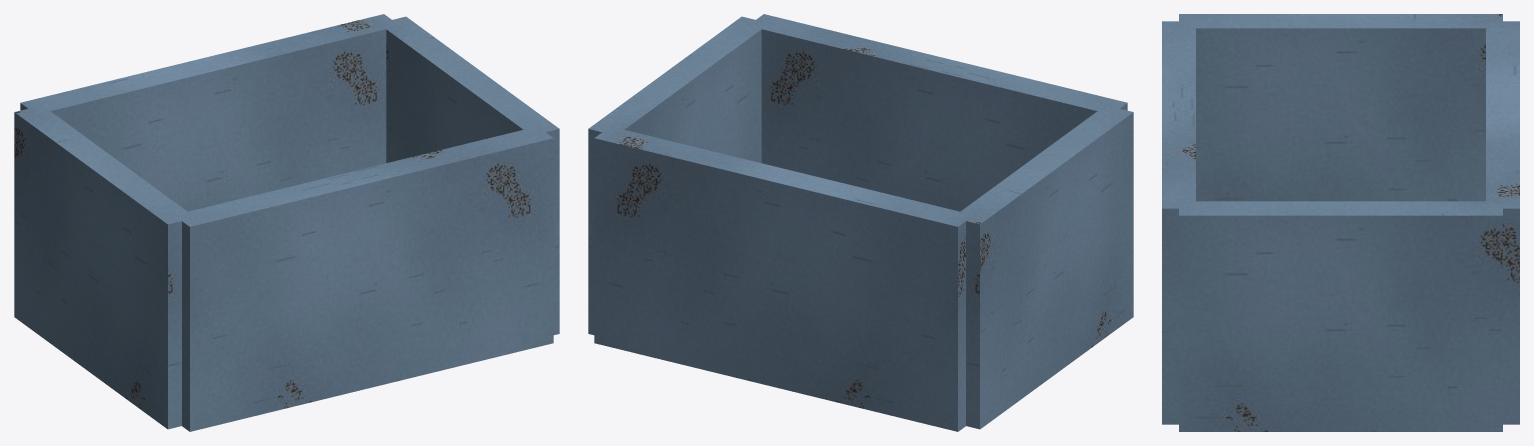
File: crate1.glb
The picture shows the model from 3 angles, left to right: view 1: azimuth 30°, elevation 25°; view 2: azimuth 150°, elevation 25°; view 3: azimuth 270°, elevation 25°; orthographic projection. The views are drawn at different scales.
Parts seen in each view (by area): view 1: NC_crate1; view 2: NC_crate1; view 3: NC_crate1.
Part boxes in pixels (bbox=[...]): NC_crate1: bbox=[14, 14, 559, 431]; NC_crate1: bbox=[588, 14, 1133, 431]; NC_crate1: bbox=[1162, 14, 1519, 431].
Bounding box in the file's own units: 0.56 × 0.28 × 0.42.
1 material, 1 textured.
